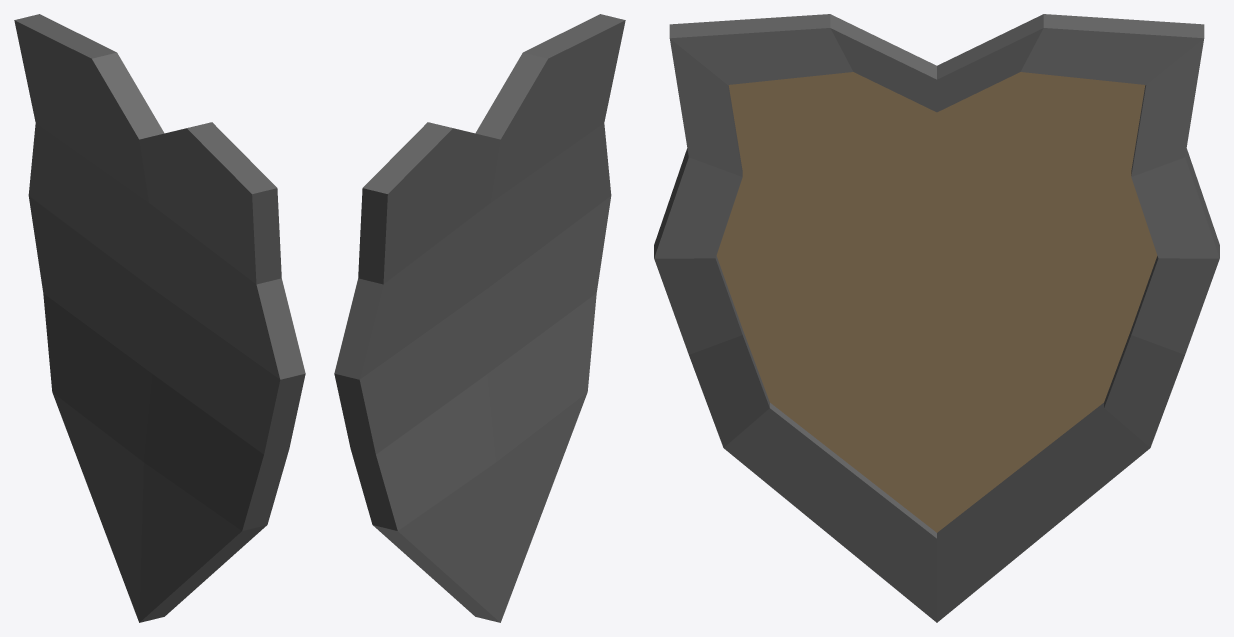
File: escudo.fbx
3 renders of one model, left to right at view 1: azimuth 30°, elevation 25°; view 2: azimuth 150°, elevation 25°; view 3: azimuth 270°, elevation 25°, orthographic. The views are drawn at different scales.
Parts seen in each view (by area): view 1: Plane; view 2: Plane; view 3: Plane.
Part boxes in pixels (x1,y1,x2,y2): Plane: (14,14,305,622); Plane: (334,14,625,622); Plane: (654,14,1219,622).
Size of the model in its own units: 8.87 by 80.93 by 69.73.
